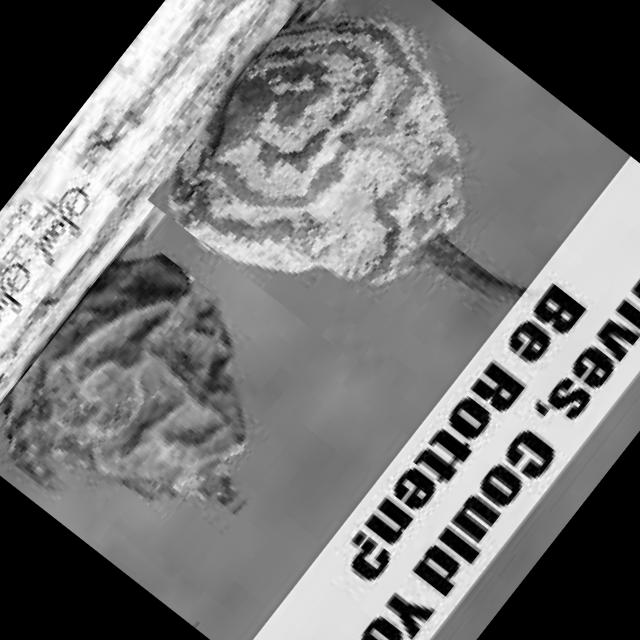Organic: (146, 0, 566, 379), (0, 232, 340, 591)
